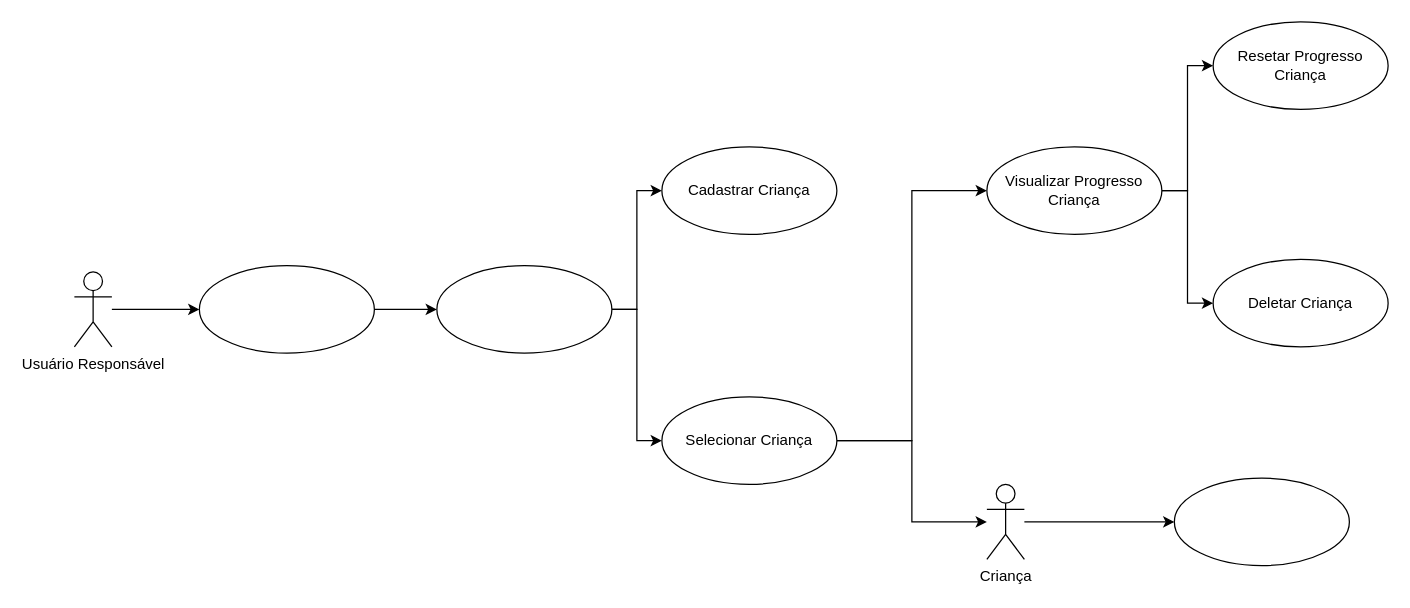
Some shapes in this 1410 by 608 pixel diagram are drawn without their labels. Each missing label, with the centre of its shape:
"Home" belongs at pixel 524 308.
"Jogar" belongs at pixel 1261 521.
"Logar" belongs at pixel 286 308.
